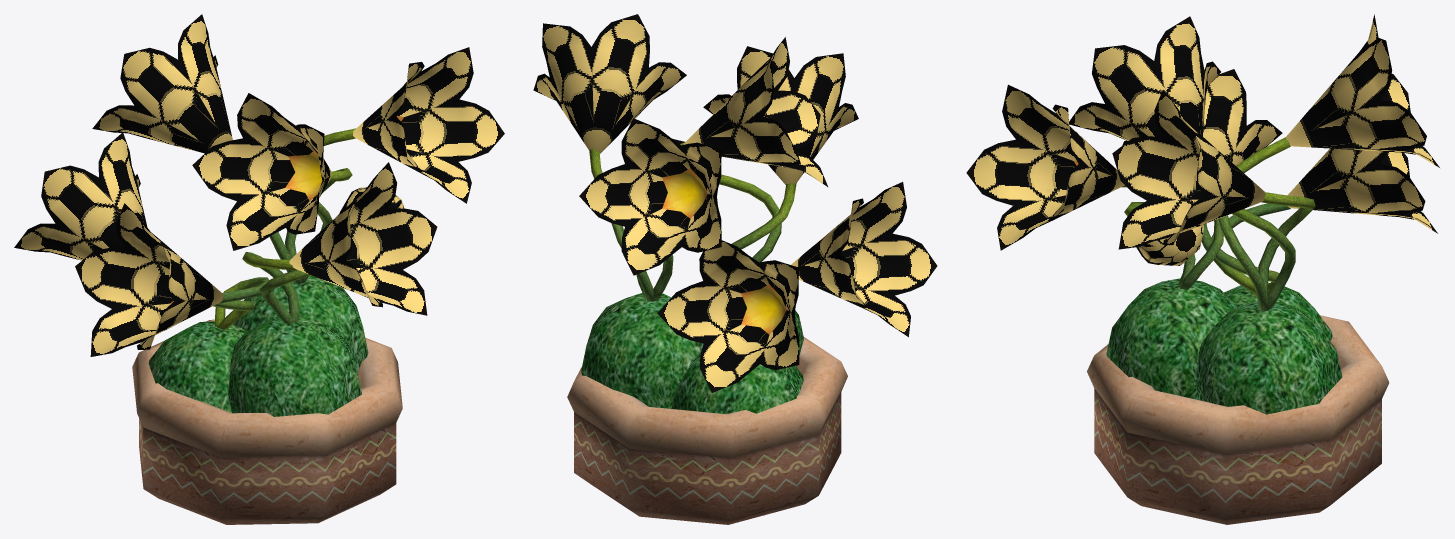
Rendered from pot_small.fbx.
3 views of the same model, side by side, from view 1: azimuth 30°, elevation 25°; view 2: azimuth 150°, elevation 25°; view 3: azimuth 270°, elevation 25° (orthographic). The views are drawn at different scales.
Visible parts, largest first — view 1: JUN_FLOWER_NOCOLI; view 2: JUN_FLOWER_NOCOLI; view 3: JUN_FLOWER_NOCOLI.
Part boxes in pixels (left/top/right/bottom): JUN_FLOWER_NOCOLI: left=14, top=14, right=504, bottom=524; JUN_FLOWER_NOCOLI: left=533, top=14, right=937, bottom=524; JUN_FLOWER_NOCOLI: left=966, top=14, right=1439, bottom=524.
Bounding box in the file's own units: 191 × 190 × 187.
